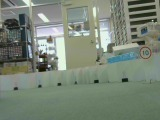speed_10: (139, 46, 152, 60)
